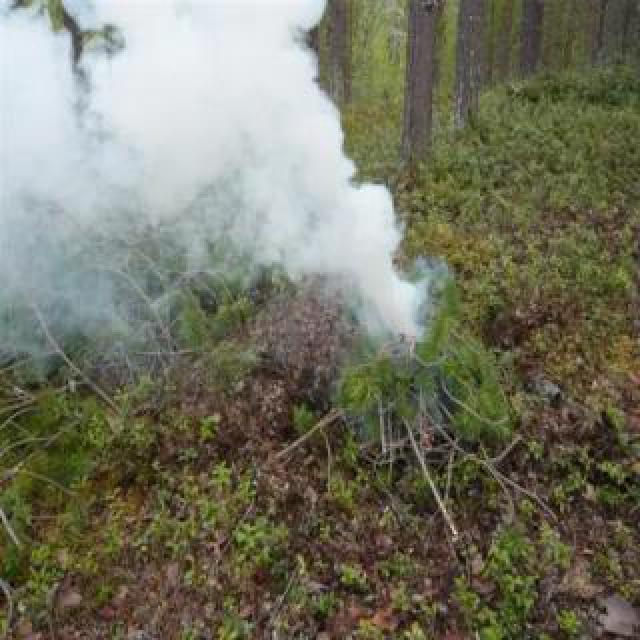Smoke: (140, 0, 446, 361)
